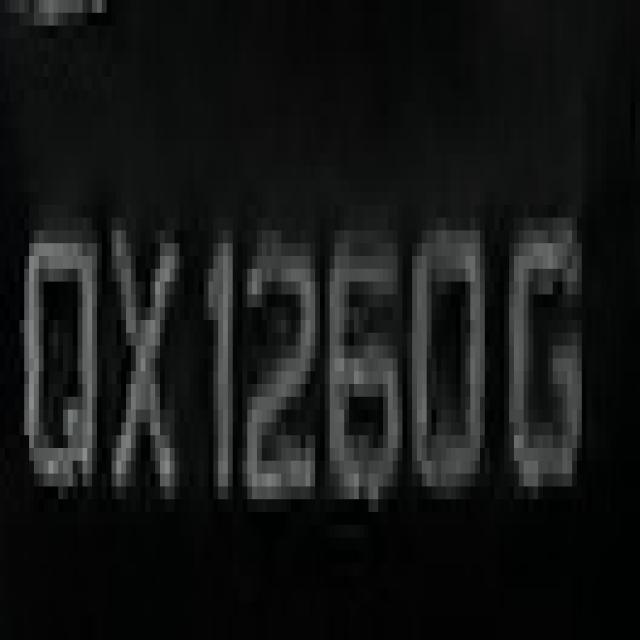0: (412, 205, 490, 538)
1: (194, 166, 242, 564)
2: (232, 192, 330, 576)
6: (330, 192, 407, 550)
G: (490, 154, 611, 550)
Q: (19, 218, 102, 538)
X: (97, 205, 179, 550)
